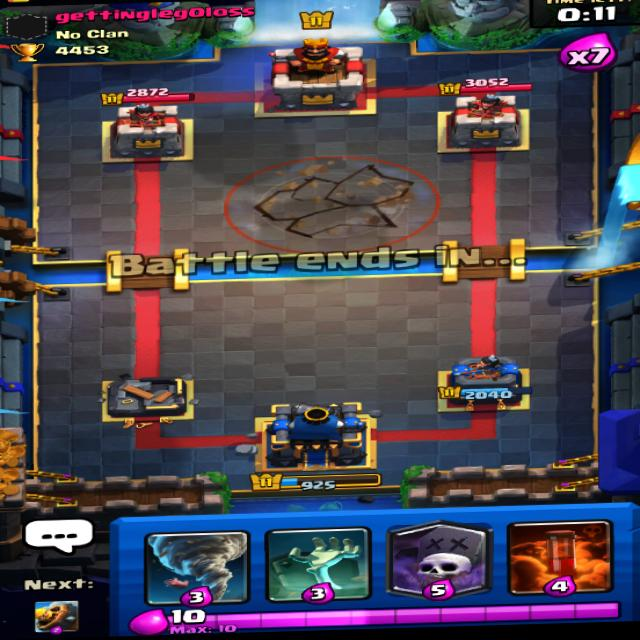earthquake: (228, 150, 440, 255)
